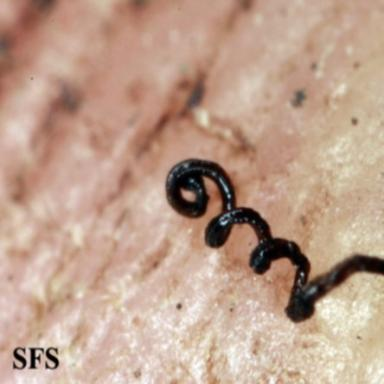Tungiasis: (167, 159, 384, 322)
